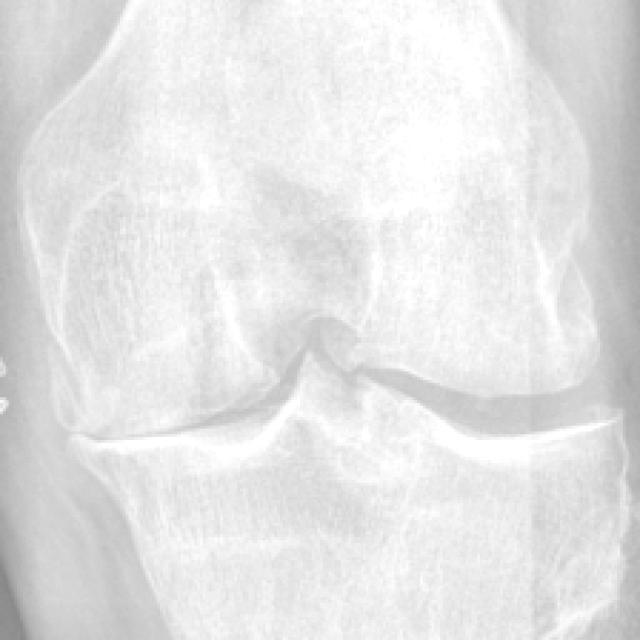femur: (19, 1, 591, 432)
tibia: (61, 354, 623, 637)
